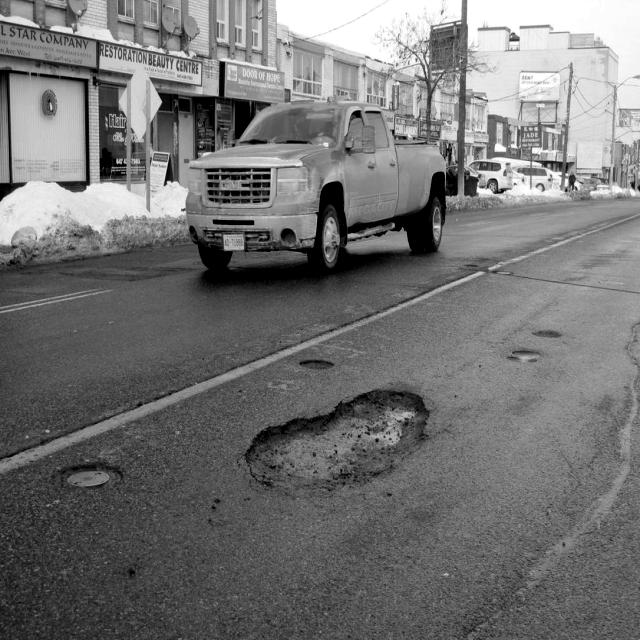pathole: (246, 390, 429, 493), (61, 463, 122, 490), (506, 348, 541, 363), (300, 360, 334, 369), (532, 330, 561, 338)
